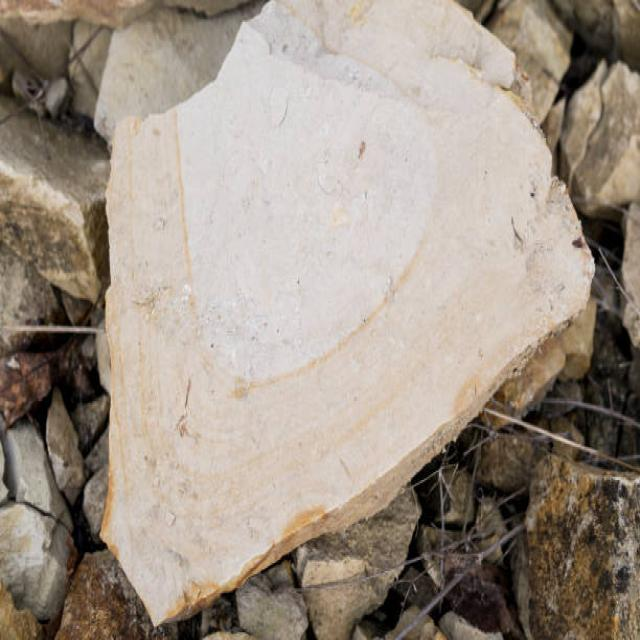Sedimentary: (94, 1, 588, 586)
